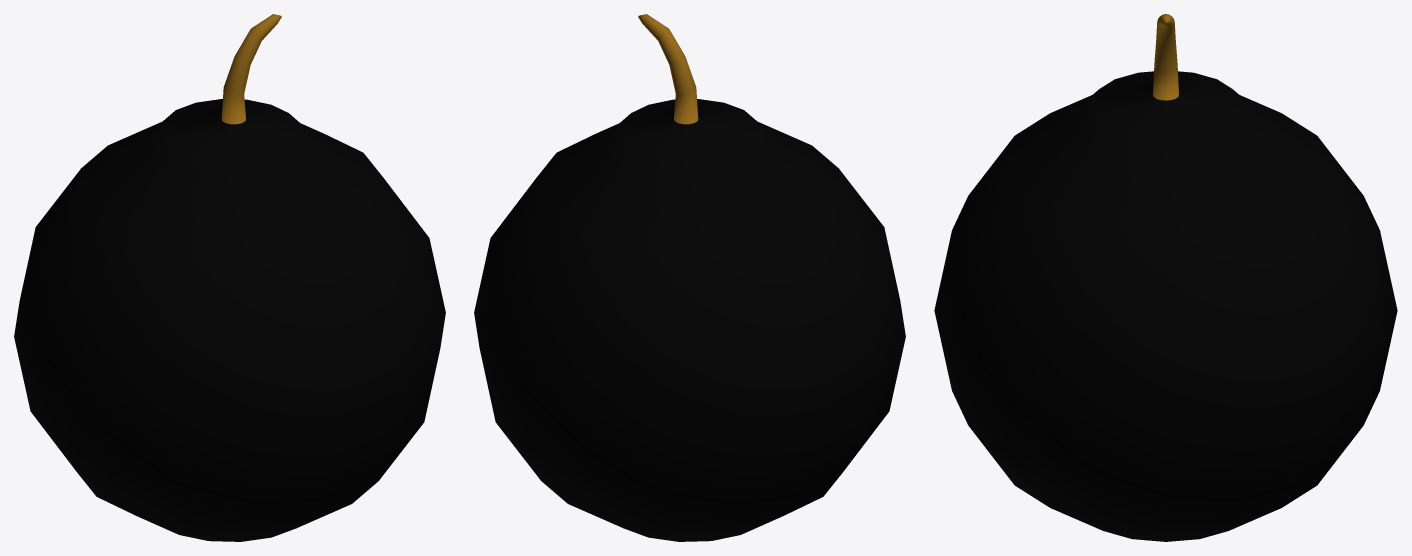
Rendered from Bomb.fbx.
3 views of the same model, side by side, from view 1: azimuth 30°, elevation 25°; view 2: azimuth 150°, elevation 25°; view 3: azimuth 270°, elevation 25° (orthographic). The views are drawn at different scales.
Parts seen in each view (by area): view 1: Bomb; view 2: Bomb; view 3: Bomb.
Boxes of the visible parts, box(x1,y1,x2,y2) form: Bomb: box(14, 14, 445, 541); Bomb: box(474, 14, 905, 541); Bomb: box(934, 14, 1397, 541).
Size of the model in its own units: 200 by 252 by 200.
